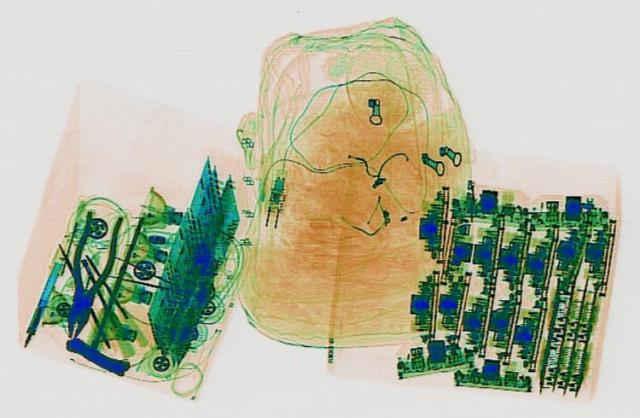Pliers: (52, 208, 126, 338)
